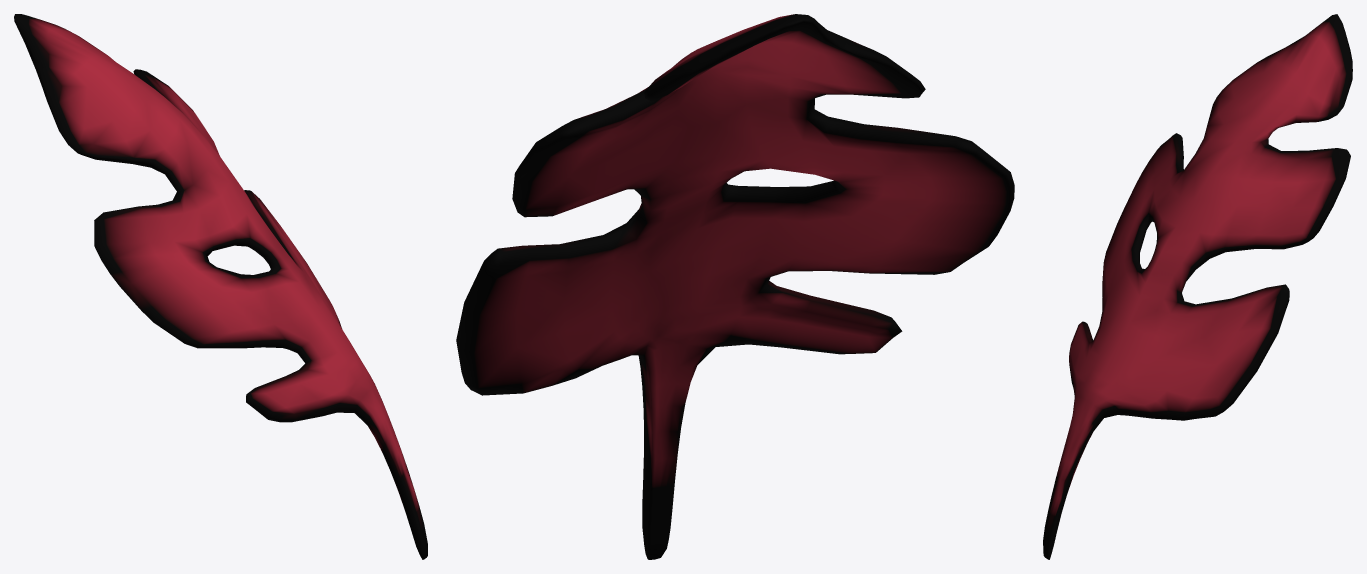
File: Leaf_11_7.fbx
3 views of the same model, side by side, from view 1: azimuth 30°, elevation 25°; view 2: azimuth 150°, elevation 25°; view 3: azimuth 270°, elevation 25° (orthographic). The views are drawn at different scales.
Visible parts, largest first — view 1: Leaf_11; view 2: Leaf_11; view 3: Leaf_11.
Part boxes in pixels (x1,y1,x2,y2): Leaf_11: [14, 14, 427, 559]; Leaf_11: [456, 14, 1014, 559]; Leaf_11: [1043, 14, 1352, 559].
Size of the model in its own units: 192 by 327 by 210.
